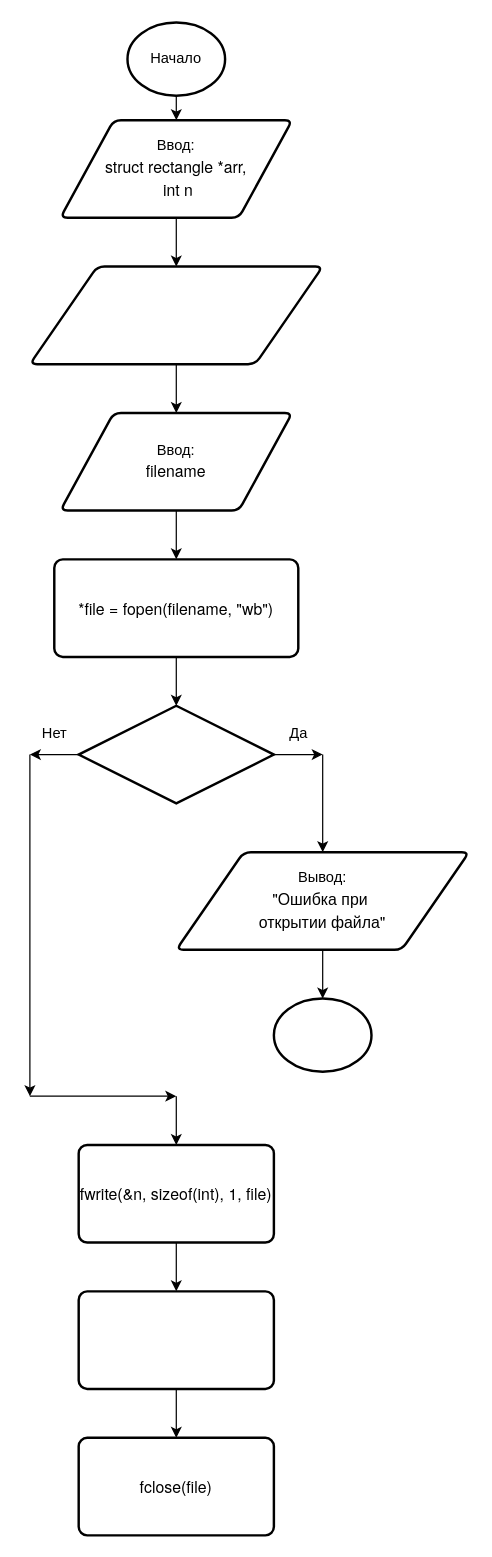
This 492x1557 diagram has some shape labels left out. Each missing label, with the centre of its shape:
!file: pixel 175 754
fwrite(arr, sizeof(struct rectangle), n, file): pixel 175 1340
Вывод: "Введите имя файла для сохранения: ": pixel 175 315
Конец: pixel 322 1034
